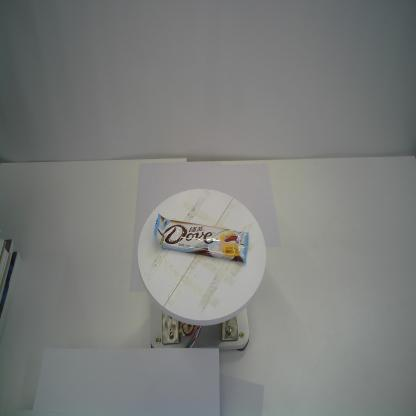Chocolate: (153, 212, 250, 264)
